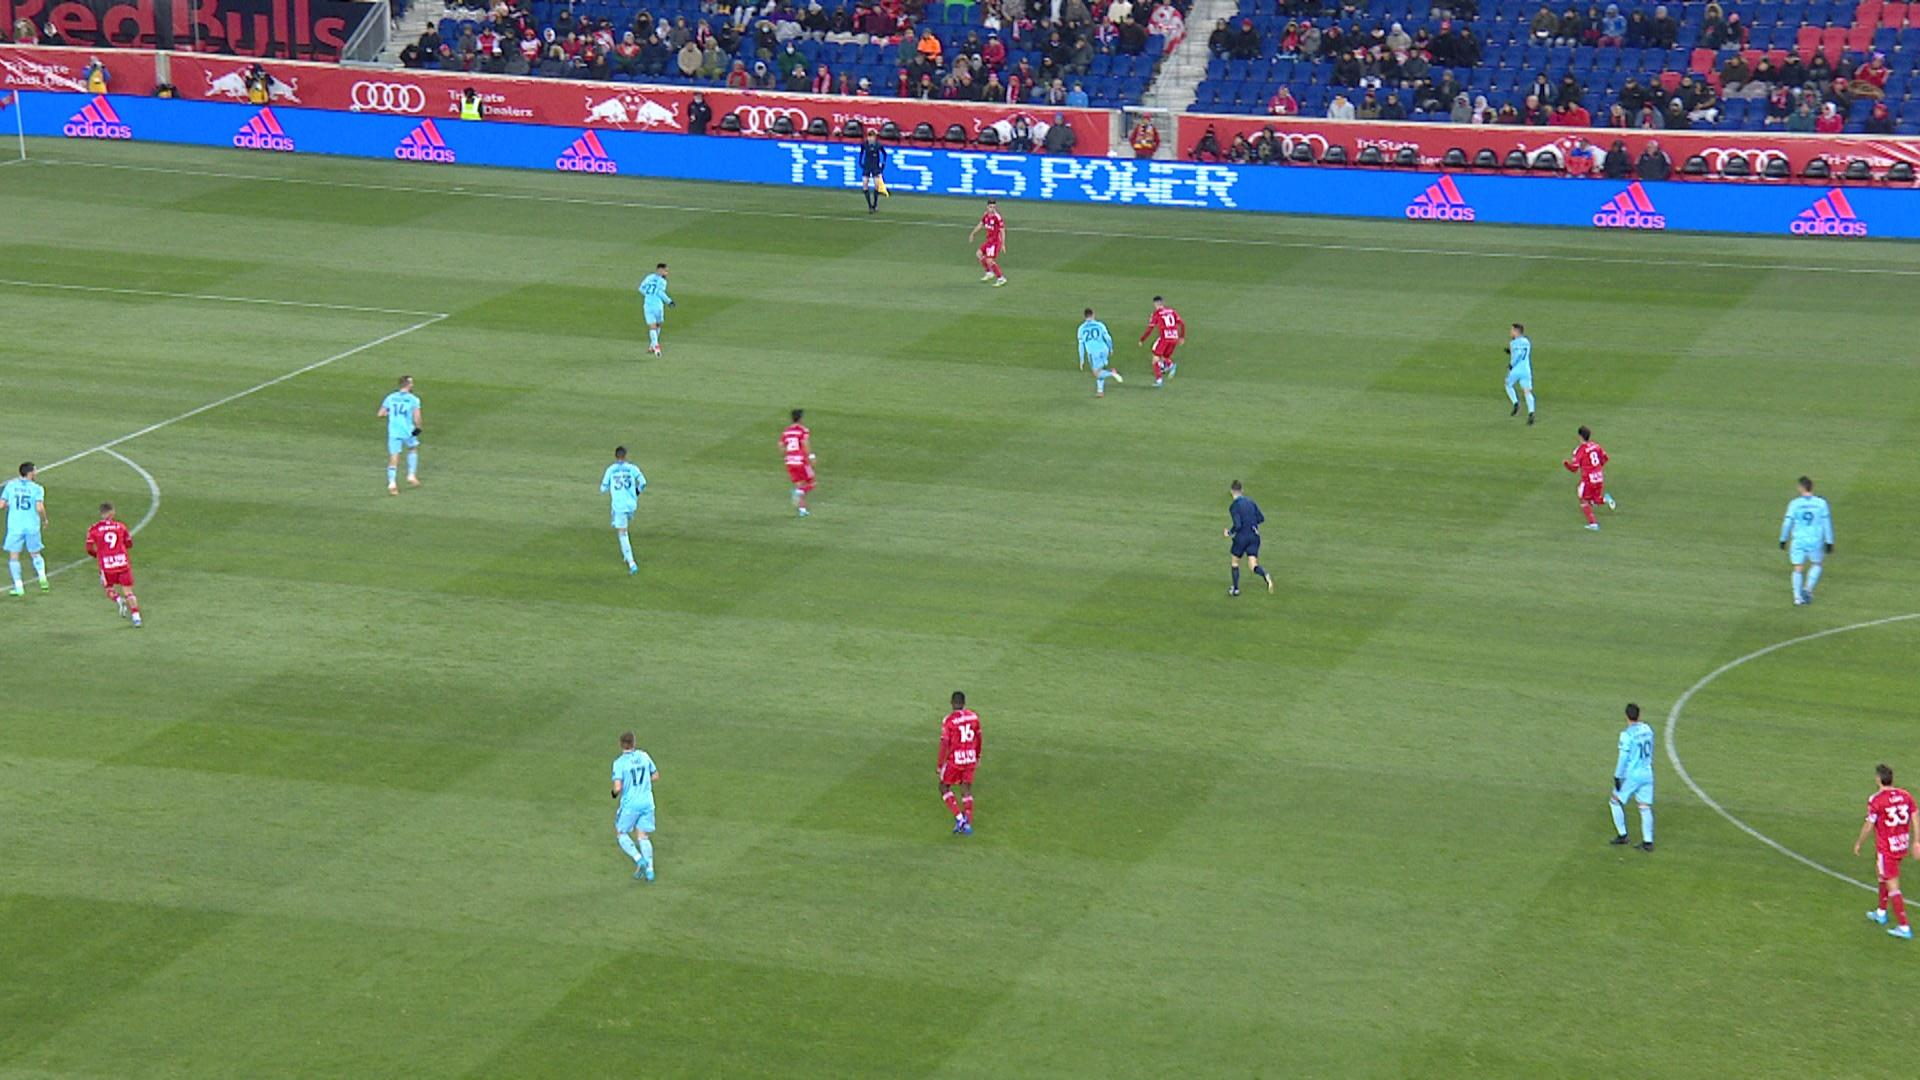football: (1158, 361, 1164, 368)
